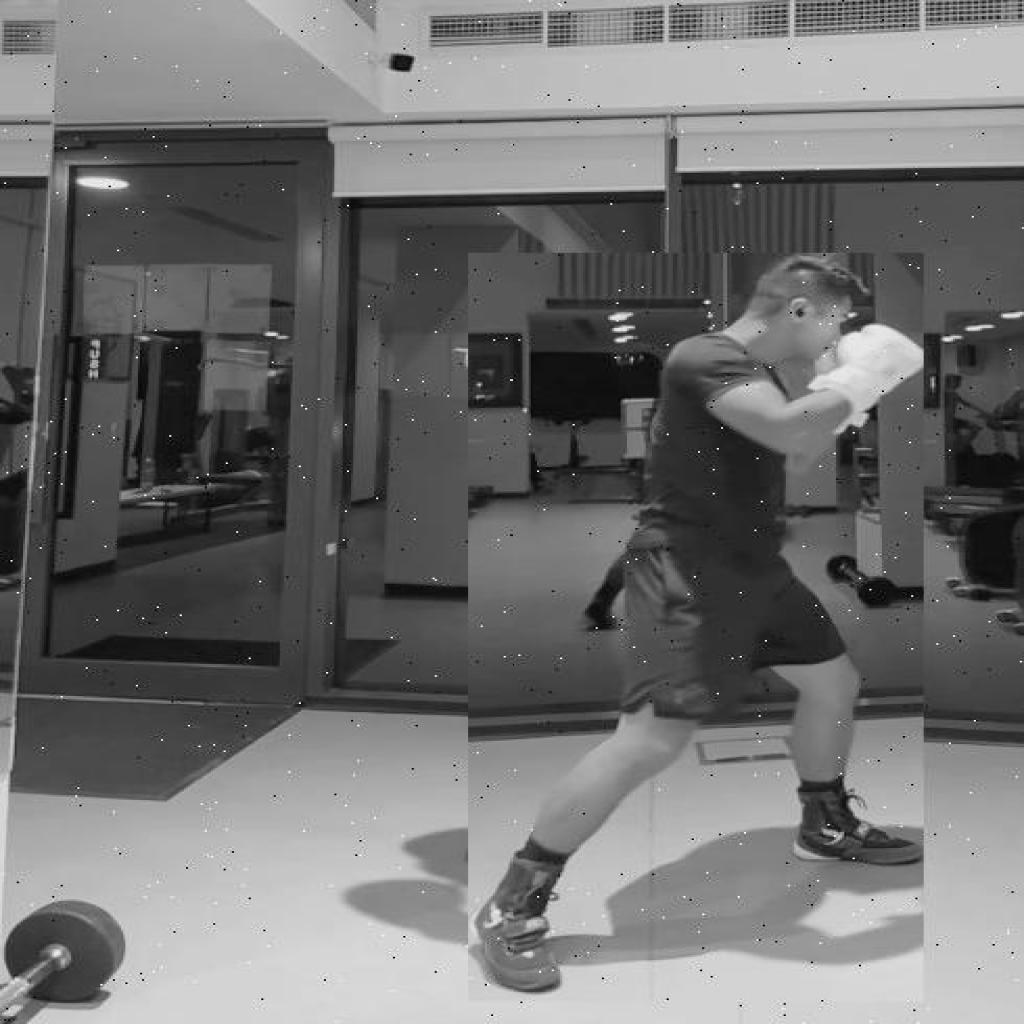no punch: (468, 253, 924, 1001)
